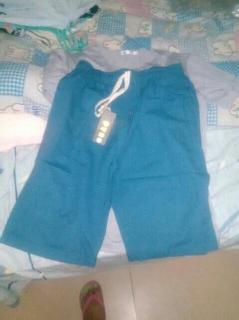shorts: (0, 60, 220, 268)
